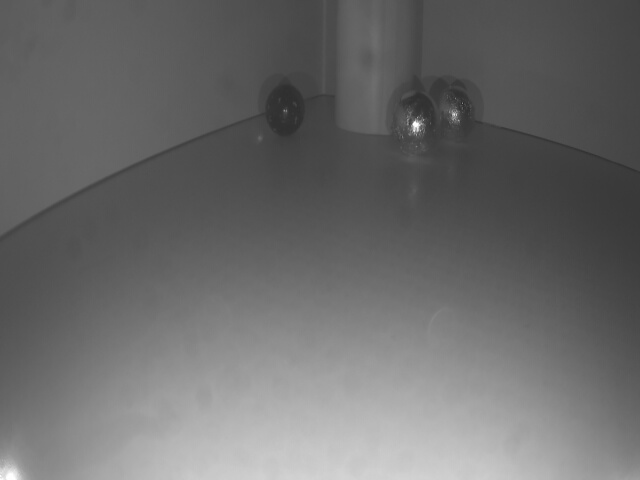Dead: (263, 81, 306, 137)
Live: (389, 89, 440, 157), (436, 91, 477, 138)
